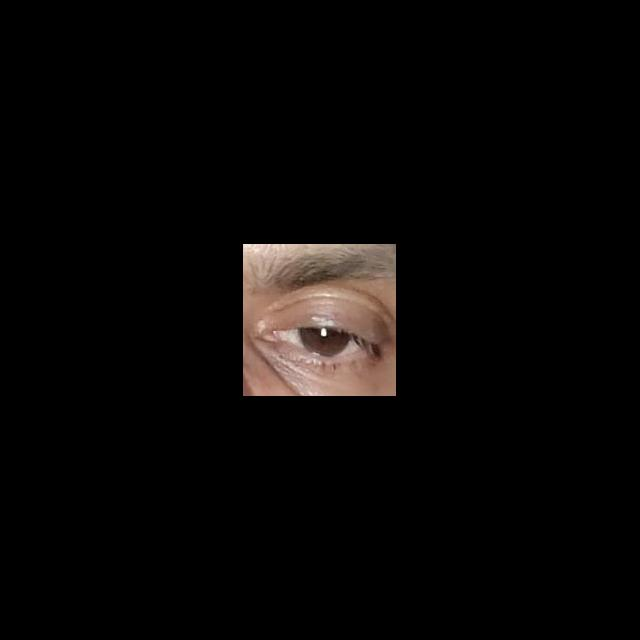eye: (274, 327, 374, 357)
iris: (299, 328, 351, 356)
